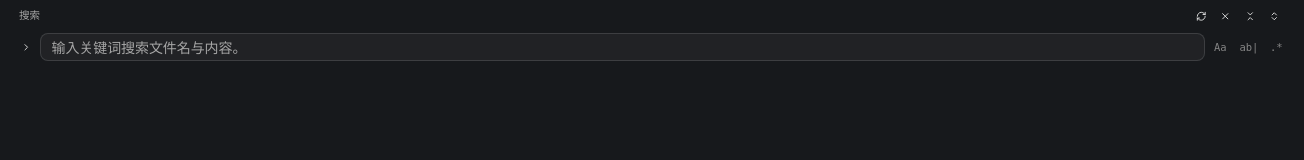
Scenario: replace-all flow › replace-all is disabled without a query
The image size is (1304, 160).
What coordinates should you click on to do the following:
click the button named "展开替换"
I would click on:
 (26, 47)
Its box is [16,37,36,58].
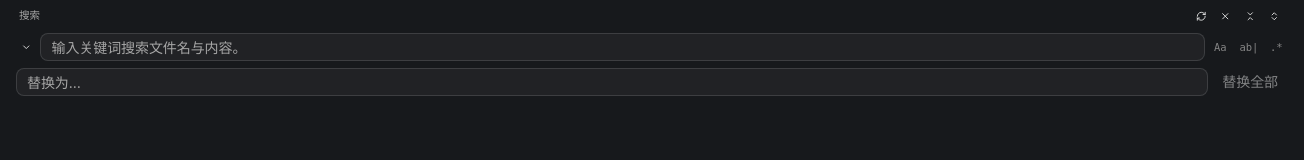
Check: the button "替换全部" is disabled, box [1212,68,1288,96]
